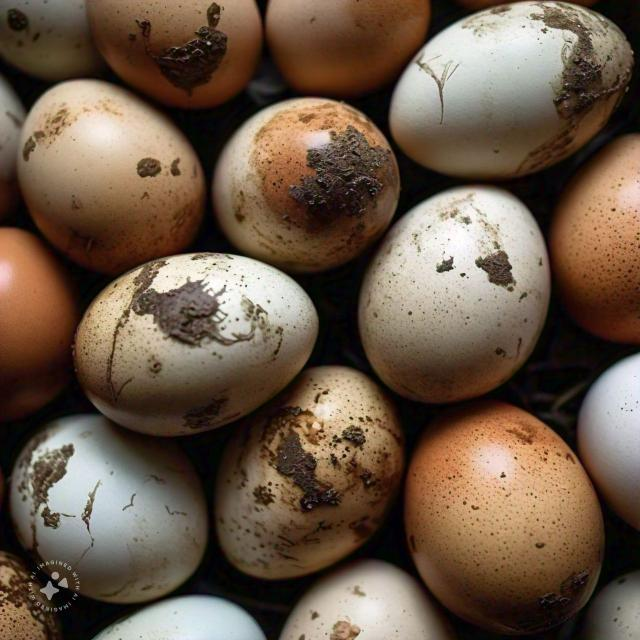Dirt Stained Egg: (348, 175, 551, 408), (72, 247, 328, 426), (357, 0, 635, 160), (224, 366, 411, 598), (0, 415, 211, 596), (20, 82, 212, 258), (214, 98, 397, 257), (80, 2, 277, 106)
